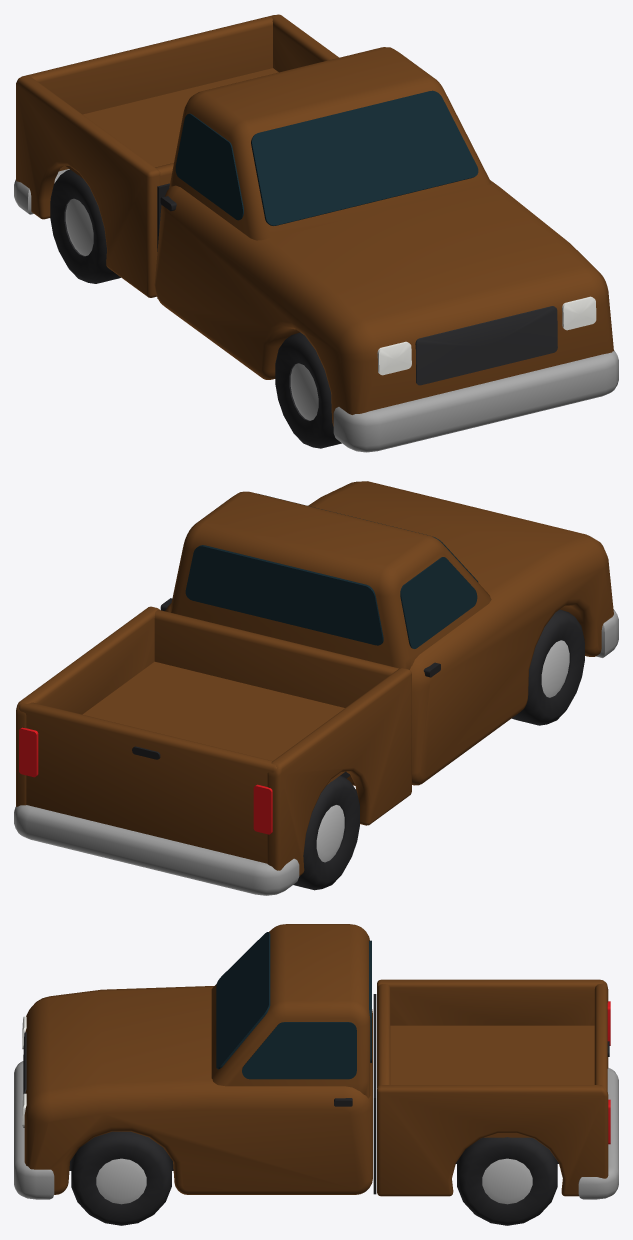
File: car_pickup.glb
3 renders of one model, top to bottom at view 1: azimuth 30°, elevation 25°; view 2: azimuth 150°, elevation 25°; view 3: azimuth 270°, elevation 25°, orthographic. The views are drawn at different scales.
Visible parts, largest first — view 1: body, wheel_front_right, wheel_rear_right; view 2: body, wheel_front_right, wheel_rear_right; view 3: body, wheel_front_left, wheel_rear_left.
Part boxes in pixels (x1,y1,x2,y2): body: (14, 14, 618, 452); wheel_front_right: (275, 332, 341, 448); wheel_rear_right: (50, 169, 120, 283); body: (14, 481, 618, 895); wheel_front_right: (511, 609, 584, 725); wheel_rear_right: (293, 775, 359, 890); body: (14, 924, 618, 1199); wheel_front_left: (71, 1131, 171, 1225); wheel_rear_left: (457, 1137, 557, 1225).
Bounding box in the file's own units: 2 × 1.74 × 4.5.
